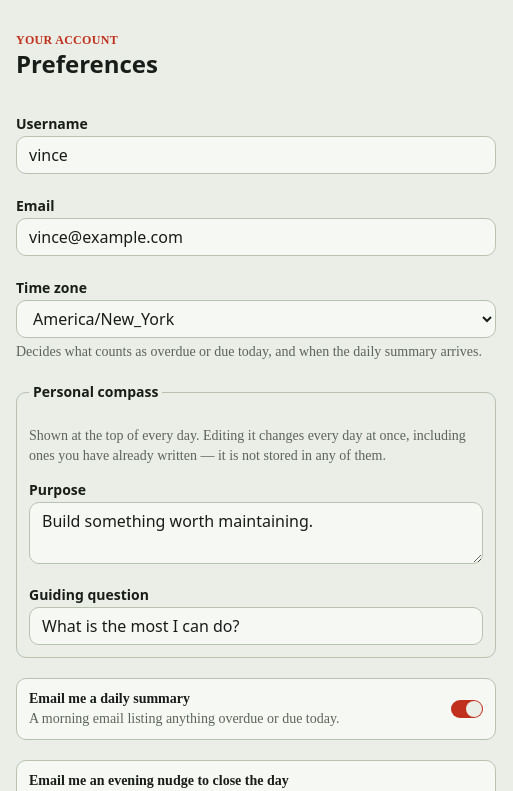
Test case: PreferencesRoute › saves the account fields on submit
The image size is (513, 791).
Replace the text in the field labelled "Username" with "vince2": (256, 155) x1=16 y1=136 x2=496 y2=174
(page scrolled)
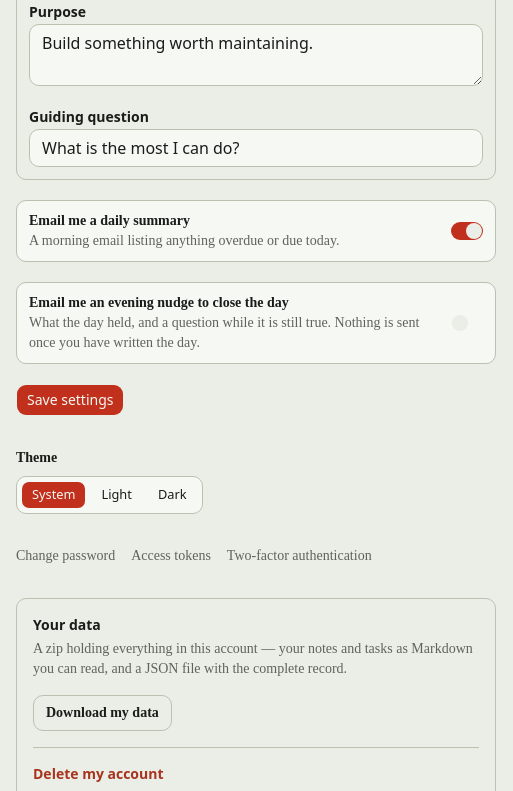
Click the button "Save settings": (70, 400) x1=16 y1=384 x2=124 y2=416
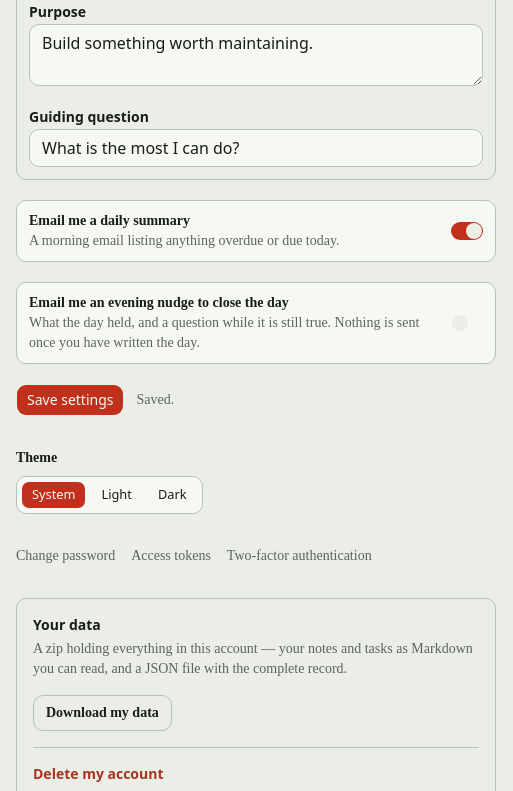
Now the text "Saved." is shown, box x1=136 y1=390 x2=174 y2=410
